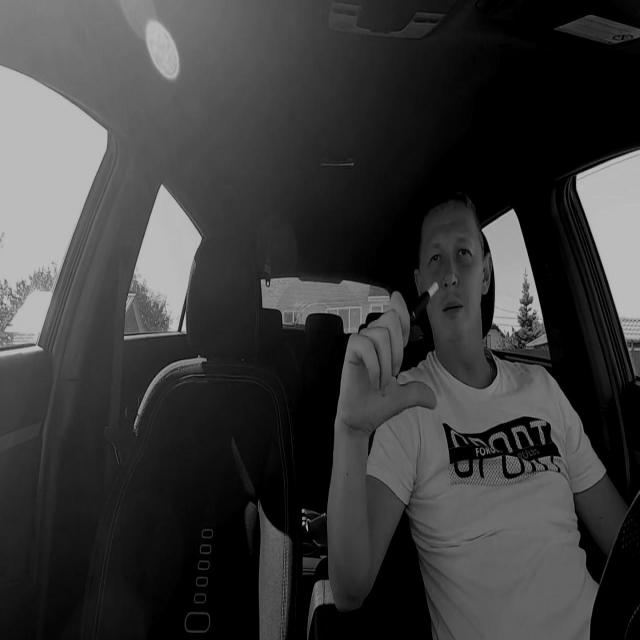Cigarette: (410, 280, 446, 323)
